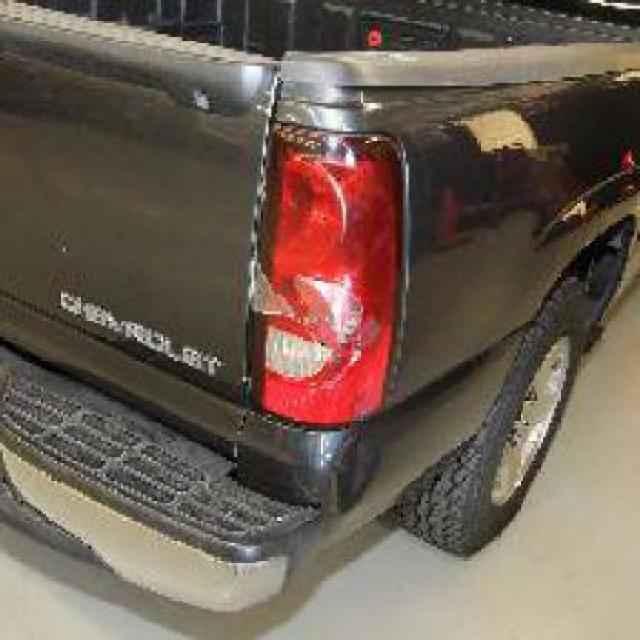damaged-tail-light: (258, 120, 410, 437)
